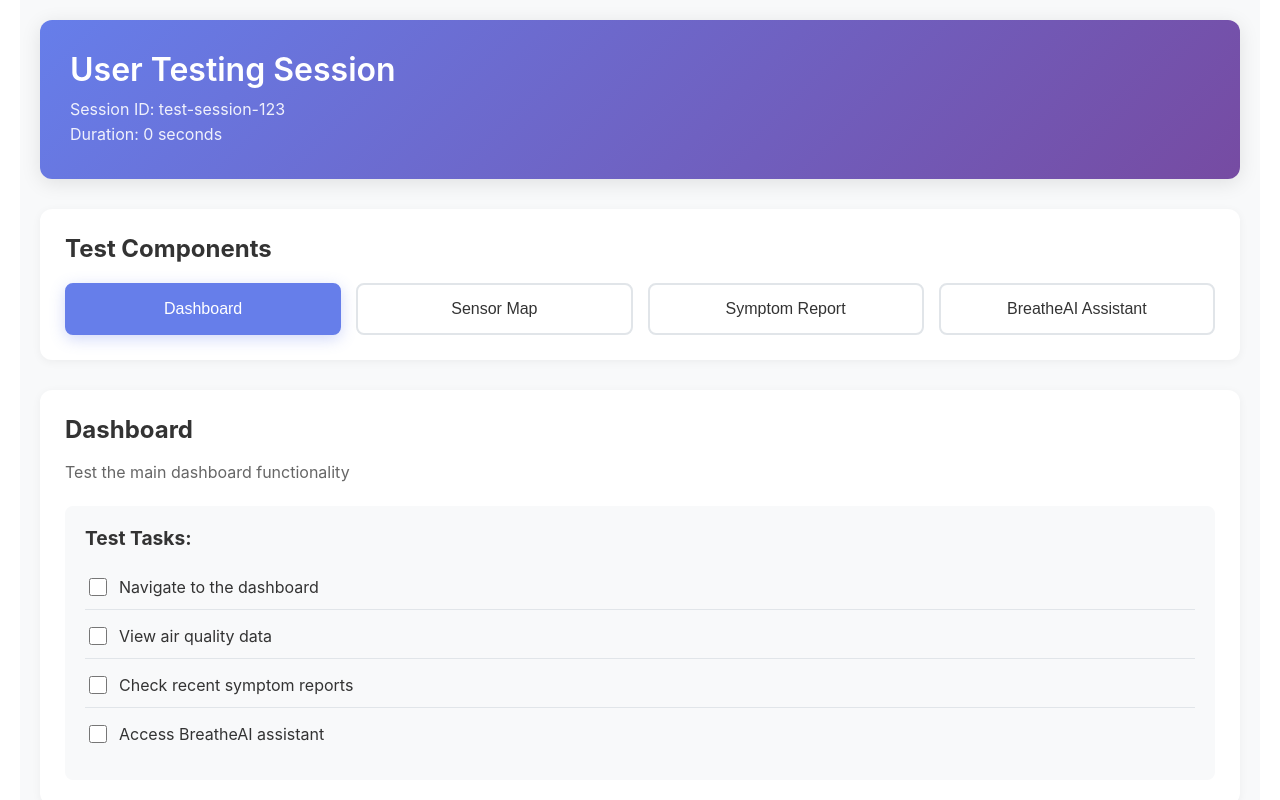
Test: UserTesting Component › allows switching between components
The image size is (1280, 800).
Expected: the text "Test the main dashboard functionality" is shown, [65,462,350,482]
Note: Switch to Sensor Map
Click the button "Sensor Map" at (494, 309), box [356,283,633,335]
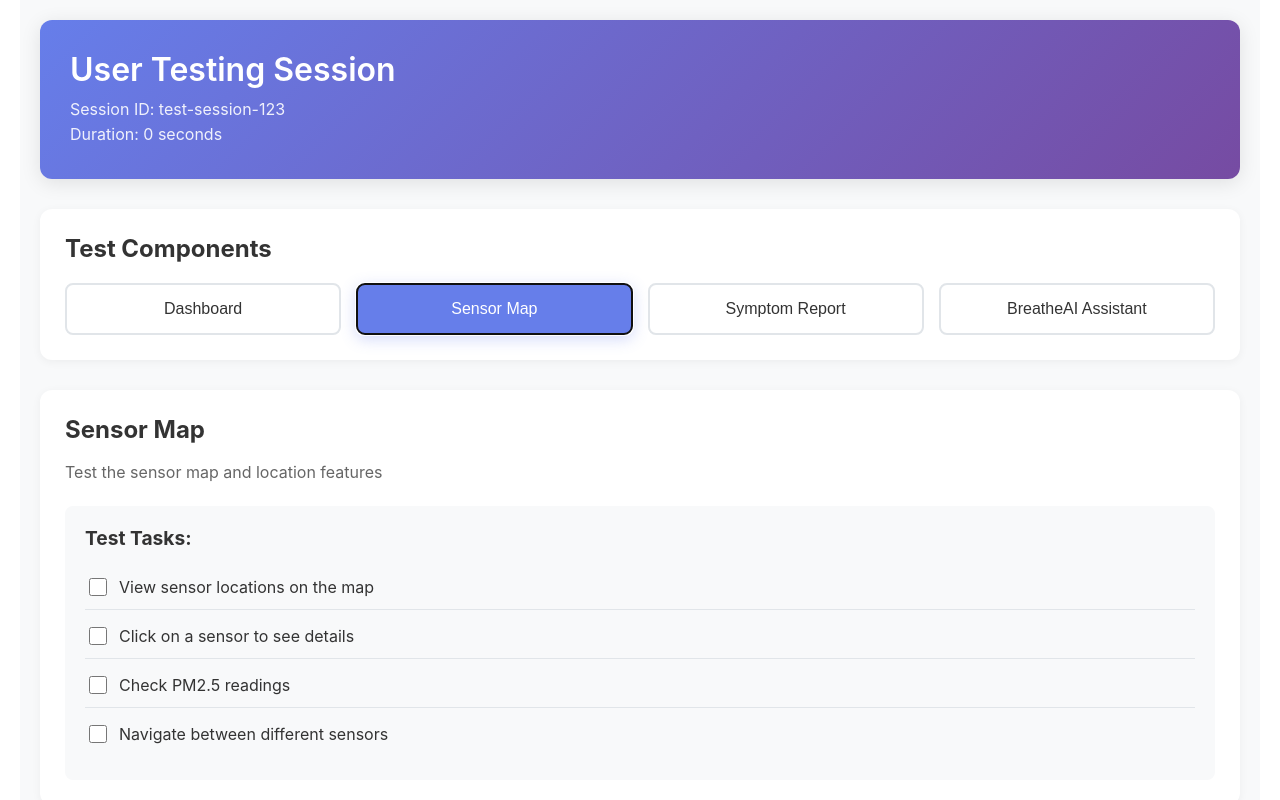
Expected: the text "Test the sensor map and location features" is shown, [65,462,382,482]
Note: Switch to Symptom Report
Click the button "Symptom Report" at (786, 309), box [648,283,924,335]
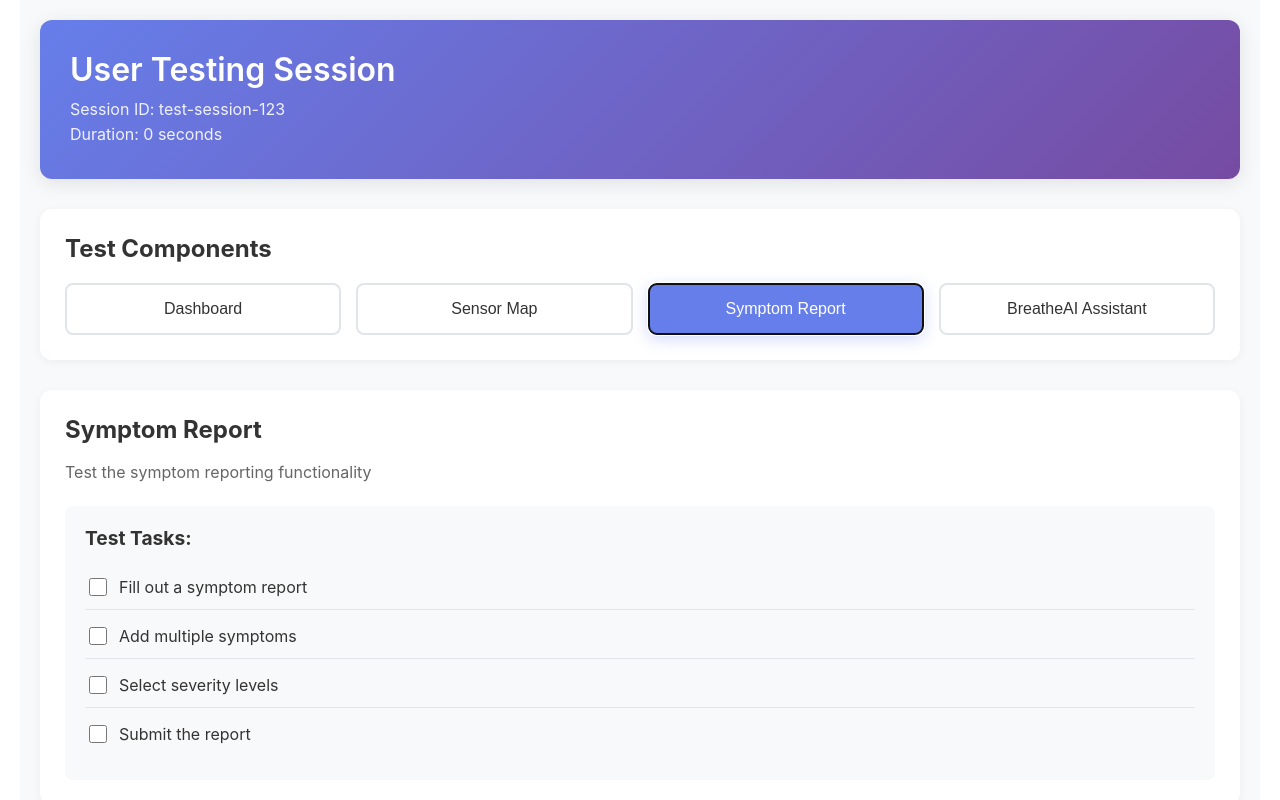
Expected: the text "Test the symptom reporting functionality" is shown, [65,462,372,482]
